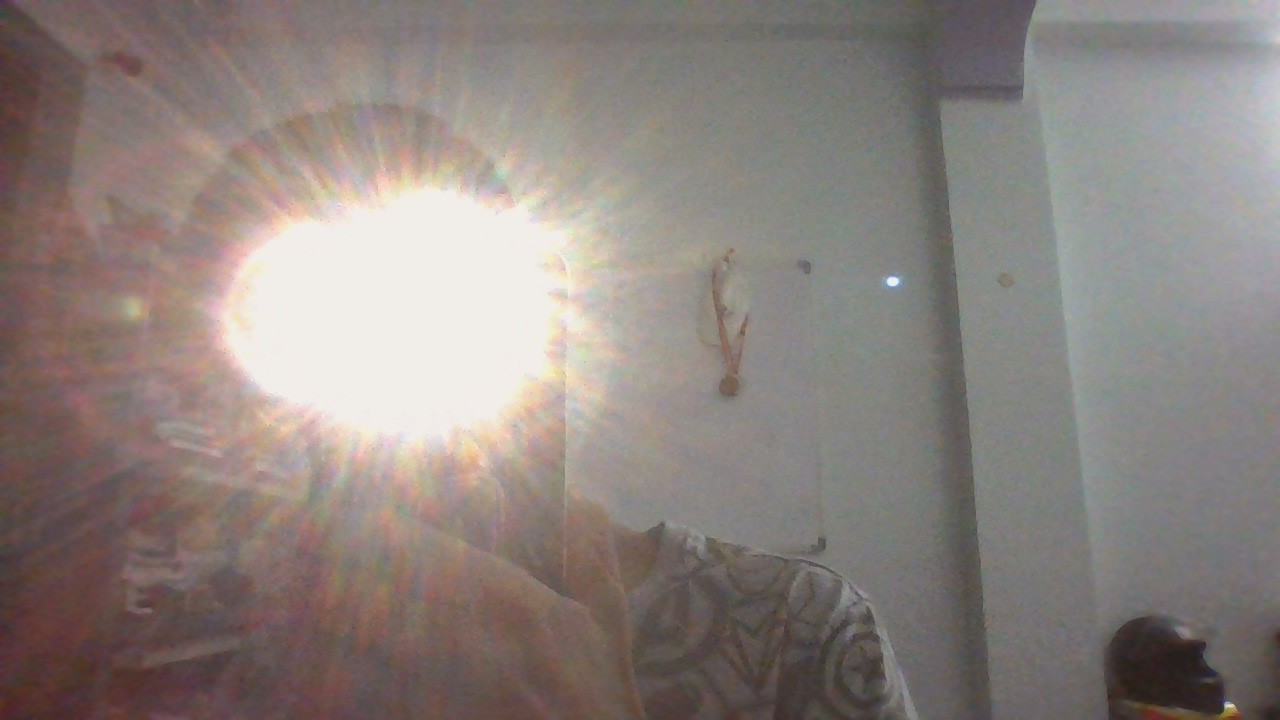Glare: (212, 190, 560, 437)
